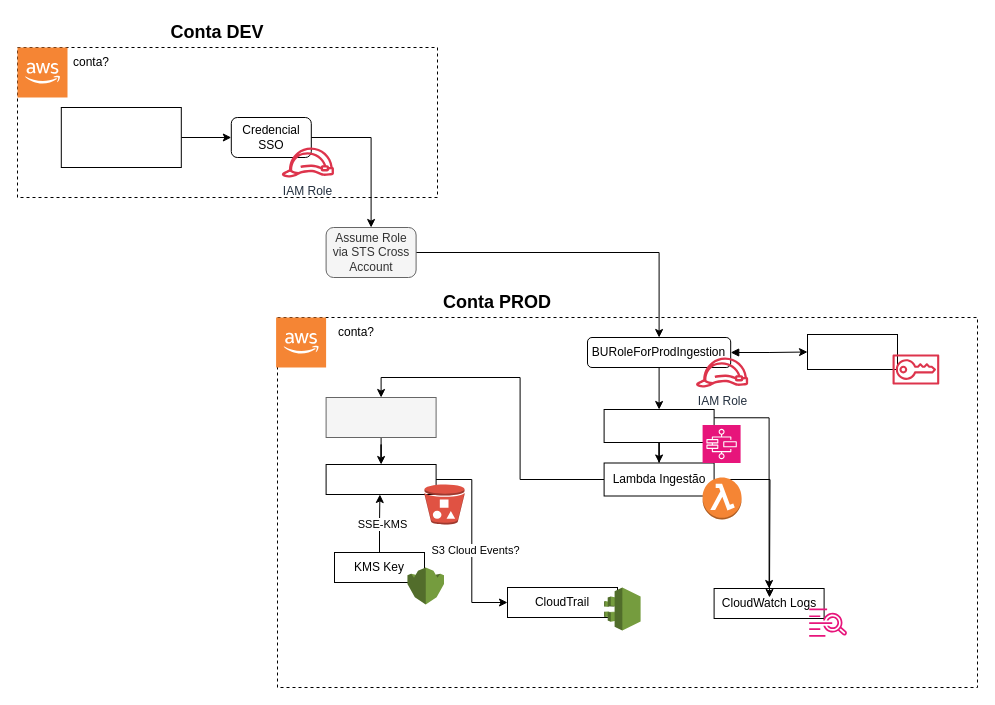
This 995x705 diagram has some shape labels left out. The centre of each missing label's shape, as x and y in pixels:
AWS STS: the point at 852,352
DEV (VS Code / AWS Toolkit / AWS CLI): the point at 120,137
prod-data-raw: the point at 380,479
put-object em ingestion/*: the point at 380,417
Step Functions: the point at 658,425
